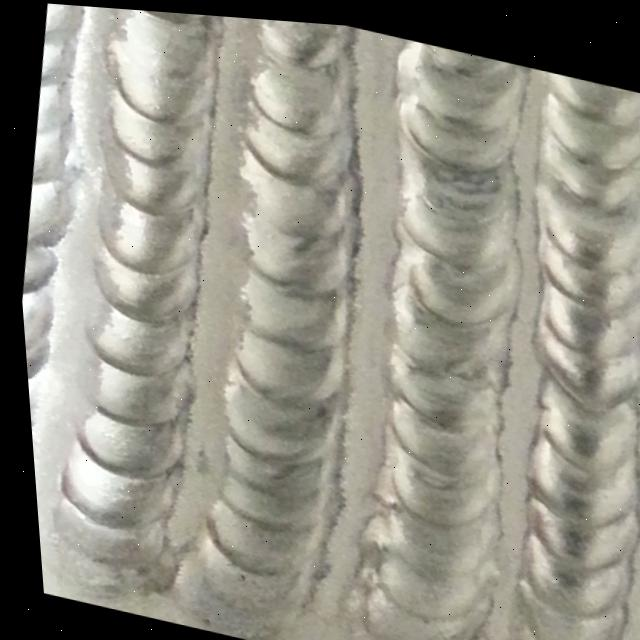Dry: (300, 28, 562, 640), (10, 1, 254, 581), (163, 9, 397, 589), (451, 60, 640, 640)
